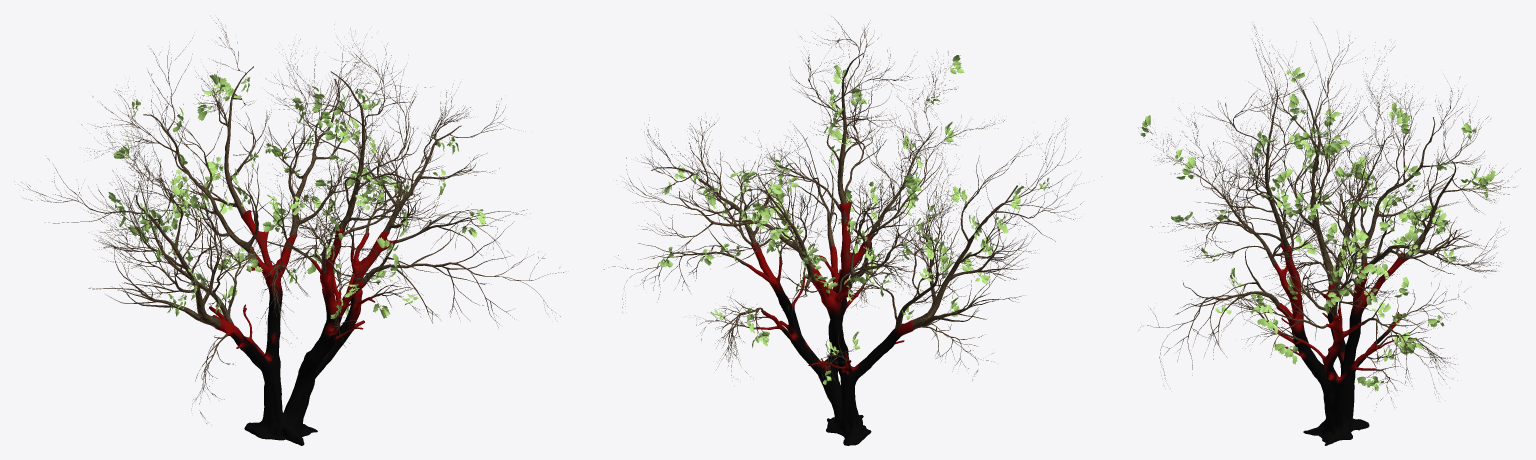
The model's file is jacaranda_tree_1k.fbx.
3 renders of one model, left to right at view 1: azimuth 30°, elevation 25°; view 2: azimuth 150°, elevation 25°; view 3: azimuth 270°, elevation 25°, orthographic. The views are drawn at different scales.
Parts seen in each view (by area): view 1: jacaranda_tree_branches, jacaranda_tree_trunk, jacaranda_tree_leaves_b.050; view 2: jacaranda_tree_branches, jacaranda_tree_leaves_b.050, jacaranda_tree_trunk; view 3: jacaranda_tree_branches, jacaranda_tree_leaves_b.050, jacaranda_tree_trunk.
Part boxes in pixels (box(x1,y1,x2,y2)): jacaranda_tree_branches: box(14, 19, 563, 423); jacaranda_tree_trunk: box(209, 210, 396, 445); jacaranda_tree_leaves_b.050: box(108, 74, 486, 318); jacaranda_tree_branches: box(603, 16, 1081, 383); jacaranda_tree_leaves_b.050: box(657, 55, 1049, 384); jacaranda_tree_trunk: box(746, 202, 912, 445); jacaranda_tree_branches: box(1138, 22, 1520, 407); jacaranda_tree_leaves_b.050: box(1140, 67, 1495, 391); jacaranda_tree_trunk: box(1272, 243, 1408, 445).
Bounding box in the file's own units: 2417 × 1942 × 1803.
